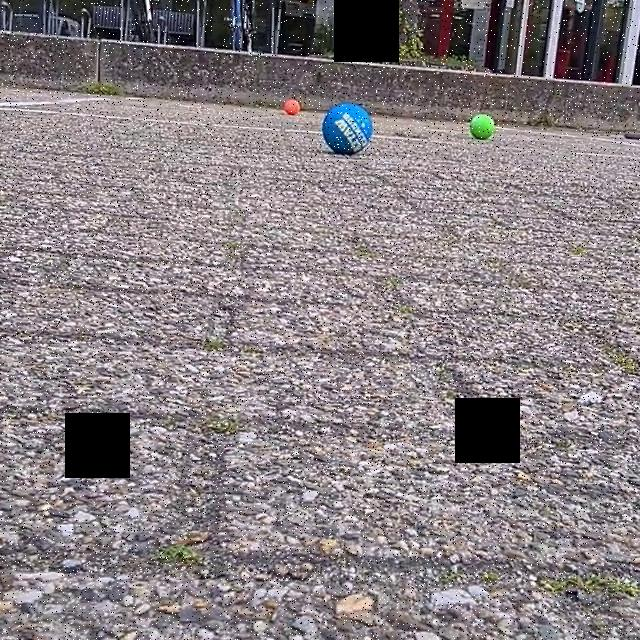ball: (468, 112, 496, 142)
